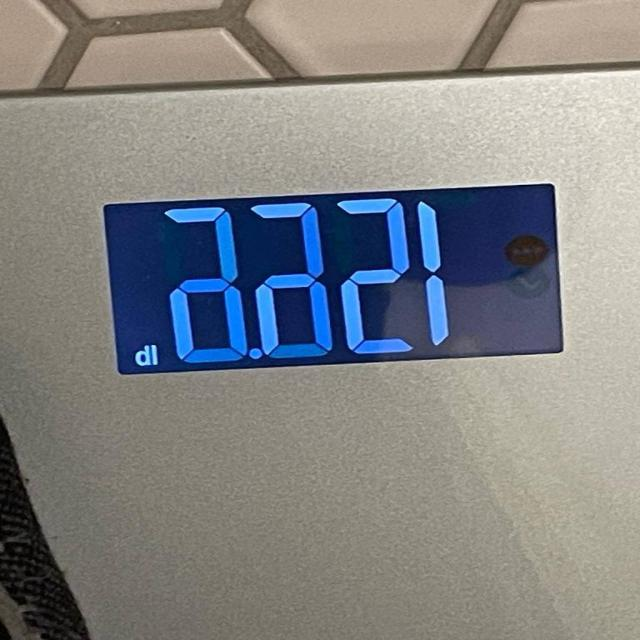ws: (1, 62, 640, 639)
